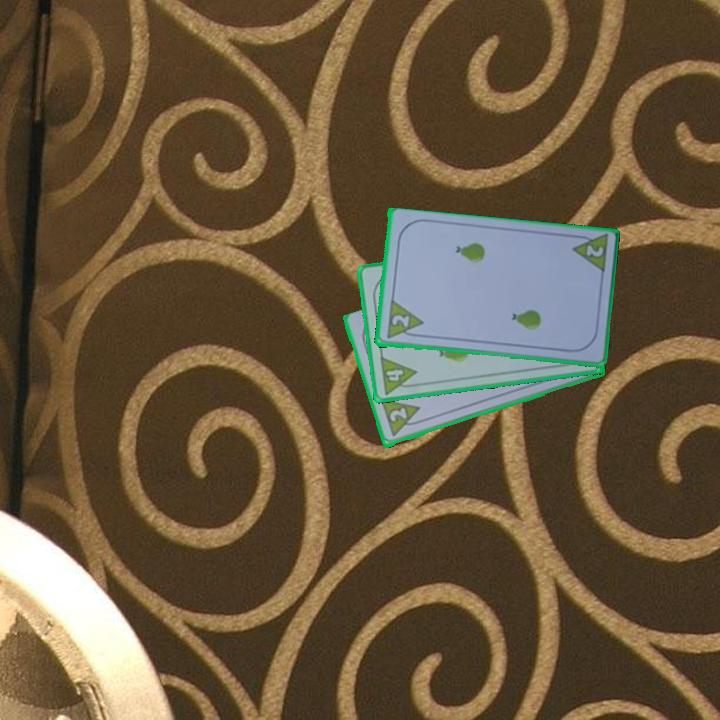2p: (386, 404, 410, 425), (388, 311, 412, 331), (582, 241, 606, 260)
4p: (376, 353, 421, 397)
